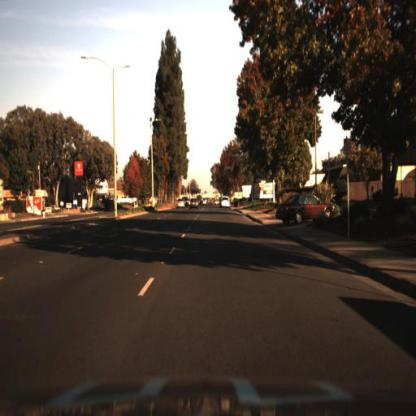car: (271, 185, 338, 229), (219, 197, 232, 215), (175, 198, 188, 214), (190, 197, 200, 215)
